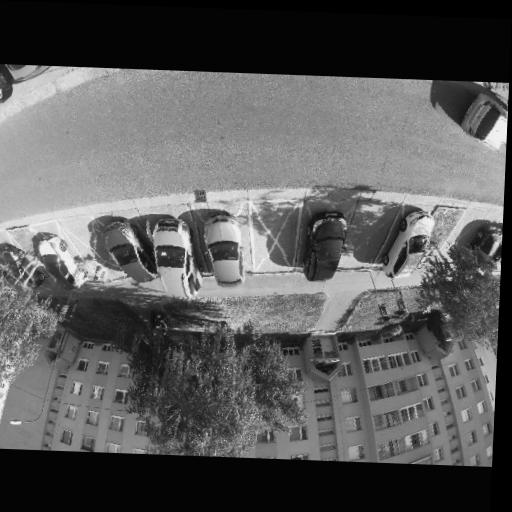busy: (430, 84, 509, 150), (140, 216, 204, 297), (95, 218, 158, 288), (198, 214, 254, 292), (23, 232, 88, 295), (382, 209, 438, 281), (300, 213, 353, 284), (475, 221, 503, 272)
free: (258, 209, 296, 258), (353, 209, 385, 248), (77, 231, 108, 263)
